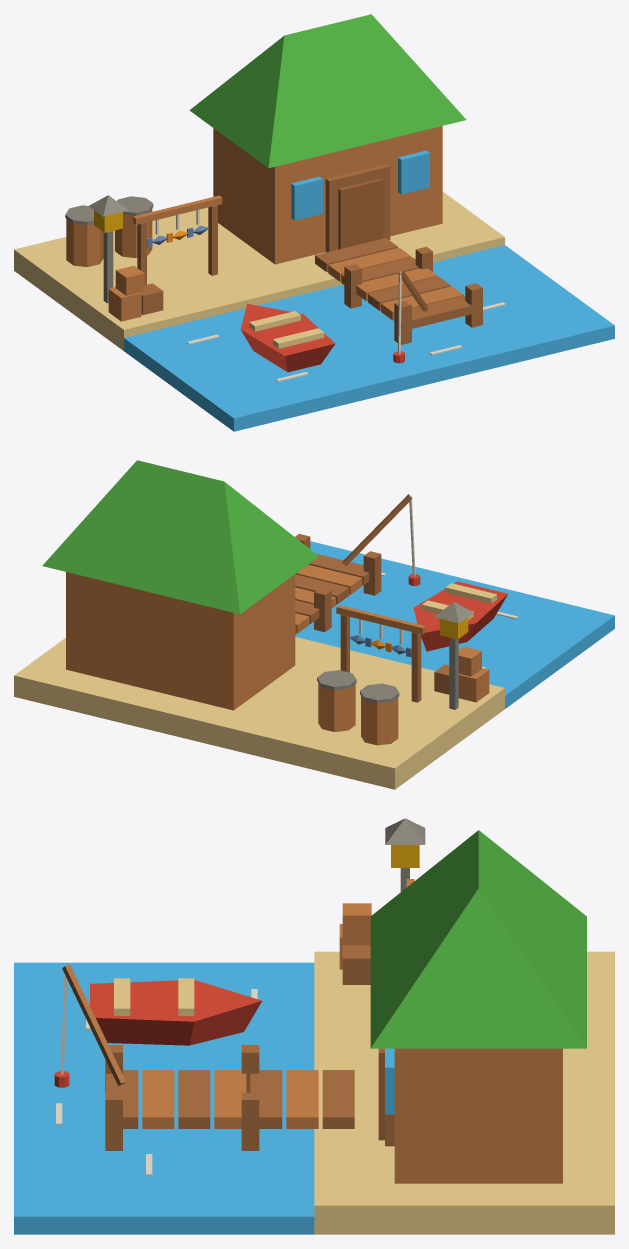
File: fishery_t2_v2.glb
3 renders of one model, top to bottom at view 1: azimuth 30°, elevation 25°; view 2: azimuth 150°, elevation 25°; view 3: azimuth 270°, elevation 25°, orthographic. The views are drawn at different scales.
Parts seen in each view (by area): view 1: fishery_t2_v2; view 2: fishery_t2_v2; view 3: fishery_t2_v2.
Part boxes in pixels (<box>): fishery_t2_v2: <box>14,14,614,431</box>; fishery_t2_v2: <box>14,460,614,789</box>; fishery_t2_v2: <box>14,818,614,1234</box>.
Bounding box in the file's own units: 0.75 × 0.41 × 0.75.
1 material, 1 textured.
